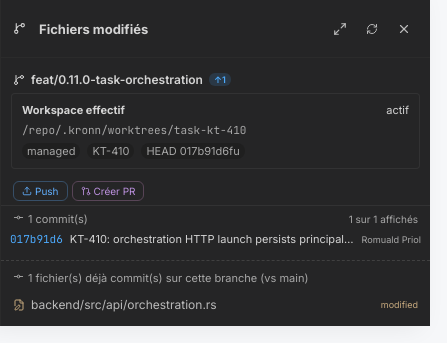
Test: GitPanel — expand view › clicking a file explicitly still opens its diff
Expected: the element with test id "git-commit-history" is shown, [1, 205, 430, 254]
Click the button "backend/src/api/orchestration.rs".
click(203, 304)  # box [31, 295, 375, 314]
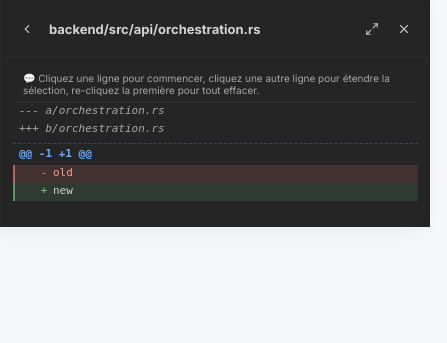
Expected: the button with class "git-back-btn" is shown, [13, 14, 41, 42]
Expected: the element with class "git-diff-pre" shows "old", [53, 166, 73, 178]
Expected: the element with class "git-diff-pre" shows "new", [53, 184, 73, 196]
